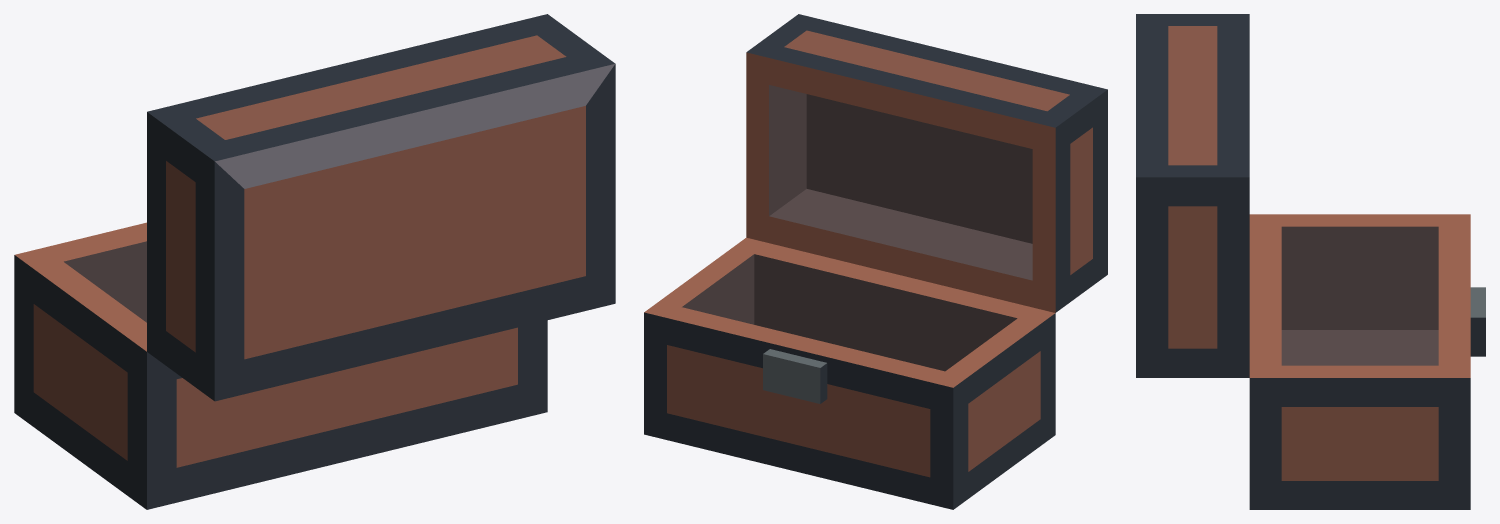
Rendered from TB_Prop_Chest_Sq_Open_C.FBX.
3 renders of one model, left to right at view 1: azimuth 30°, elevation 25°; view 2: azimuth 150°, elevation 25°; view 3: azimuth 270°, elevation 25°, orthographic. The views are drawn at different scales.
Visible parts, largest first — view 1: TB_Prop_Chest_Sq_Open_C; view 2: TB_Prop_Chest_Sq_Open_C; view 3: TB_Prop_Chest_Sq_Open_C.
Boxes of the visible parts, box(x1,y1,x2,y2) form: TB_Prop_Chest_Sq_Open_C: box(14, 14, 615, 509); TB_Prop_Chest_Sq_Open_C: box(644, 14, 1107, 509); TB_Prop_Chest_Sq_Open_C: box(1136, 14, 1485, 509).
Bounding box in the file's own units: 1.05 × 0.9932 × 0.9464.
